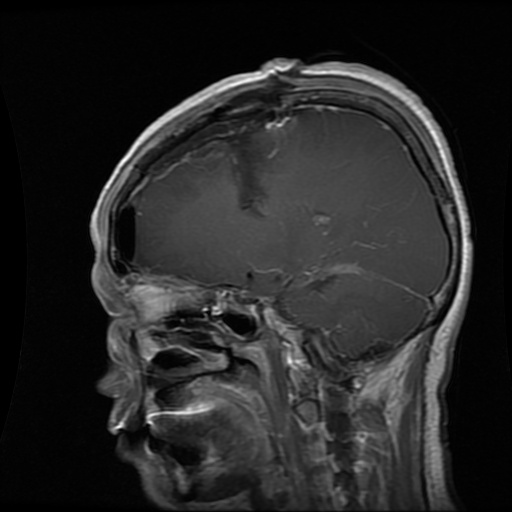glioma: (179, 122, 279, 218)
